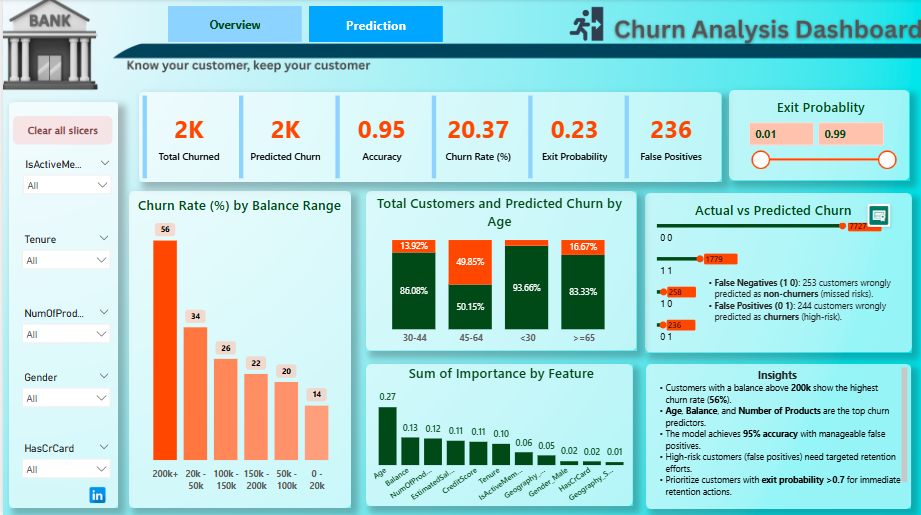

The dashboard page shown, as its layout file describes it:
{"tool":"powerbi","page":{"name":"Prediction","canvas":[1280,720],"ordinal":1},"visuals":[{"type":"shape","box":[189,129.3,810.3,125.1],"z":0},{"type":"shape","box":[503.9,507.3,370.9,197.6],"z":0,"group":"g2"},{"type":"slicer","fields":{"Values":["Bank_churn_modified.Gender"]},"box":[1.5,507.4,172.9,81.4],"z":0,"group":"g1"},{"type":"shape","box":[1008.5,127,251,125.5],"z":1000},{"type":"slicer","title":"Salary Category","fields":{"Values":["Bank_churn_modified.Tenure"]},"box":[1.5,314.6,172.9,87.1],"z":1000,"group":"g1"},{"type":"slicer","title":"Exit Probablity","fields":{"Values":["Bank_churn_modified.Exit_Probability"]},"box":[1008.5,127,255.4,125.5],"z":2000},{"type":"slicer","fields":{"Values":["Bank_churn_modified.NumOfProducts"]},"box":[1.5,418.1,172.9,72.9],"z":2000,"group":"g1"},{"type":"slicer","fields":{"Values":["Bank_churn_modified.HasCrCard"]},"box":[1.5,605.3,172.9,87.1],"z":3000,"group":"g1"},{"type":"shape","box":[8.4,143.6,152,564.6],"z":4000},{"type":"slicer","title":"Salary Category","fields":{"Values":["Bank_churn_modified.IsActiveMember"]},"box":[2.9,211,172.9,87.1],"z":4000,"group":"g1"},{"type":"group","id":"g1","title":"Group 2","box":[1.5,211,174.3,481.4],"z":5000},{"type":"actionButton","box":[14.3,162.9,138.6,40],"z":6000},{"type":"cardVisual","fields":{"Data":["Bank_churn_modified.Total Churned","Bank_churn_modified.Predicted Churn","Bank_churn_modified.Accuracy","Bank_churn_modified.Churn Rate (%)","Bank_churn_modified.Average Exit Probability","Bank_churn_modified.False Positives"]},"box":[189,129.3,810.3,125.1],"z":7000},{"type":"image","box":[759.5,5.7,103.8,58.3],"z":8000},{"type":"image","box":[102.5,672,57.9,36.2],"z":9000},{"type":"group","id":"g2","title":"Group 1","box":[503.9,507.3,371.2,198.2],"z":10000,"group":"g8"},{"type":"shape","box":[175.1,266.9,308.6,440.6],"z":11000,"group":"g5"},{"type":"group","id":"g3","title":"Group 5","box":[892.6,269.1,371.2,225],"z":11000},{"type":"group","id":"g4","title":"Group 6","box":[893.6,507.3,369.6,201.6],"z":12000},{"type":"group","id":"g5","title":"Group 7","box":[175.1,266.9,308.6,440.6],"z":13000},{"type":"columnChart","title":"Churn Rate (%) by Balance Range","fields":{"Category":["Bank_churn_modified.Balance Range"],"Y":["Bank_churn_modified.Churn Rate (%)"]},"box":[182,273.8,293.3,418.4],"z":13000,"group":"g5"},{"type":"pageNavigator","box":[229.3,9.7,382.2,50],"z":14000},{"type":"shape","box":[503.9,267.1,376.3,221.7],"z":14000,"group":"g6"},{"type":"shape","box":[892.6,269.1,371.2,221.7],"z":14000,"group":"g3"},{"type":"shape","box":[893.6,507.3,369.1,201.7],"z":14000,"group":"g4"},{"type":"group","id":"g6","title":"Group 4","box":[503.9,267.1,376.3,221.7],"z":15000},{"type":"hundredPercentStackedColumnChart","title":"Total Customers and Predicted Churn by Age ","fields":{"Category":["Bank_churn_modified.Age_Group"],"Y":["Bank_churn_modified.Total Customers"],"Series":["Bank_churn_modified.Predicted"]},"box":[503.9,270.6,371.1,218.2],"z":15000,"group":"g6"},{"type":"horizontalBarChartPBICraft","title":"Actual vs Predicted Churn","fields":{"category":["Bank_churn_modified.Exited","Bank_churn_modified.Predicted"],"measure":["Bank_churn_modified.Total Customers"]},"box":[903.2,280.1,334.3,211],"z":15000,"group":"g7"},{"type":"group","id":"g7","title":"Group 3","box":[903.2,280.1,355.7,214],"z":15001,"group":"g3"},{"type":"columnChart","fields":{"Category":["feature_importance.Feature"],"Y":["Sum(feature_importance.Importance)"]},"box":[503.9,507.3,376.3,201.6],"z":16000,"group":"g8"},{"type":"group","id":"g8","title":"Group 8","box":[503.9,507.3,376.3,201.6],"z":16001},{"type":"textbox","box":[898.2,507.3,364.5,187.5],"z":19000,"group":"g4"},{"type":"textbox","box":[966.4,380,291.1,97.2],"z":20000,"group":"g7"}]}

Visuals, with their boxes in screenshot pixels (x1, y1, x2, y2), scaled from the page's 1280x720 canvas onto the 921x515 screenshot:
shape: pyautogui.locateOnScreen(136, 92, 719, 182)
shape: pyautogui.locateOnScreen(363, 363, 629, 504)
slicer - Bank_churn_modified.Gender: pyautogui.locateOnScreen(1, 363, 125, 421)
shape: pyautogui.locateOnScreen(726, 91, 906, 181)
"Salary Category" slicer: pyautogui.locateOnScreen(1, 225, 125, 287)
"Exit Probablity" slicer: pyautogui.locateOnScreen(726, 91, 909, 181)
slicer - Bank_churn_modified.NumOfProducts: pyautogui.locateOnScreen(1, 299, 125, 351)
slicer - Bank_churn_modified.HasCrCard: pyautogui.locateOnScreen(1, 433, 125, 495)
shape: pyautogui.locateOnScreen(6, 103, 115, 507)
"Salary Category" slicer: pyautogui.locateOnScreen(2, 151, 126, 213)
"Group 2" group: pyautogui.locateOnScreen(1, 151, 126, 495)
actionButton: pyautogui.locateOnScreen(10, 117, 110, 145)
cardVisual - Bank_churn_modified.Total Churned x Bank_churn_modified.Predicted Churn: pyautogui.locateOnScreen(136, 92, 719, 182)
image: pyautogui.locateOnScreen(546, 4, 621, 46)
image: pyautogui.locateOnScreen(74, 481, 115, 507)
"Group 1" group: pyautogui.locateOnScreen(363, 363, 630, 505)
shape: pyautogui.locateOnScreen(126, 191, 348, 506)
"Group 5" group: pyautogui.locateOnScreen(642, 192, 909, 353)
"Group 6" group: pyautogui.locateOnScreen(643, 363, 909, 507)
"Group 7" group: pyautogui.locateOnScreen(126, 191, 348, 506)
"Churn Rate (%) by Balance Range" columnChart: pyautogui.locateOnScreen(131, 196, 342, 495)
pageNavigator: pyautogui.locateOnScreen(165, 7, 440, 43)
shape: pyautogui.locateOnScreen(363, 191, 633, 350)
shape: pyautogui.locateOnScreen(642, 192, 909, 351)
shape: pyautogui.locateOnScreen(643, 363, 909, 507)
"Group 4" group: pyautogui.locateOnScreen(363, 191, 633, 350)
"Total Customers and Predicted Churn by Age " hundredPercentStackedColumnChart: pyautogui.locateOnScreen(363, 194, 630, 350)
"Actual vs Predicted Churn" horizontalBarChartPBICraft: pyautogui.locateOnScreen(650, 200, 890, 351)
"Group 3" group: pyautogui.locateOnScreen(650, 200, 906, 353)
columnChart - feature_importance.Feature x Sum(feature_importance.Importance): pyautogui.locateOnScreen(363, 363, 633, 507)
"Group 8" group: pyautogui.locateOnScreen(363, 363, 633, 507)
textbox: pyautogui.locateOnScreen(646, 363, 909, 497)
textbox: pyautogui.locateOnScreen(695, 272, 905, 341)
